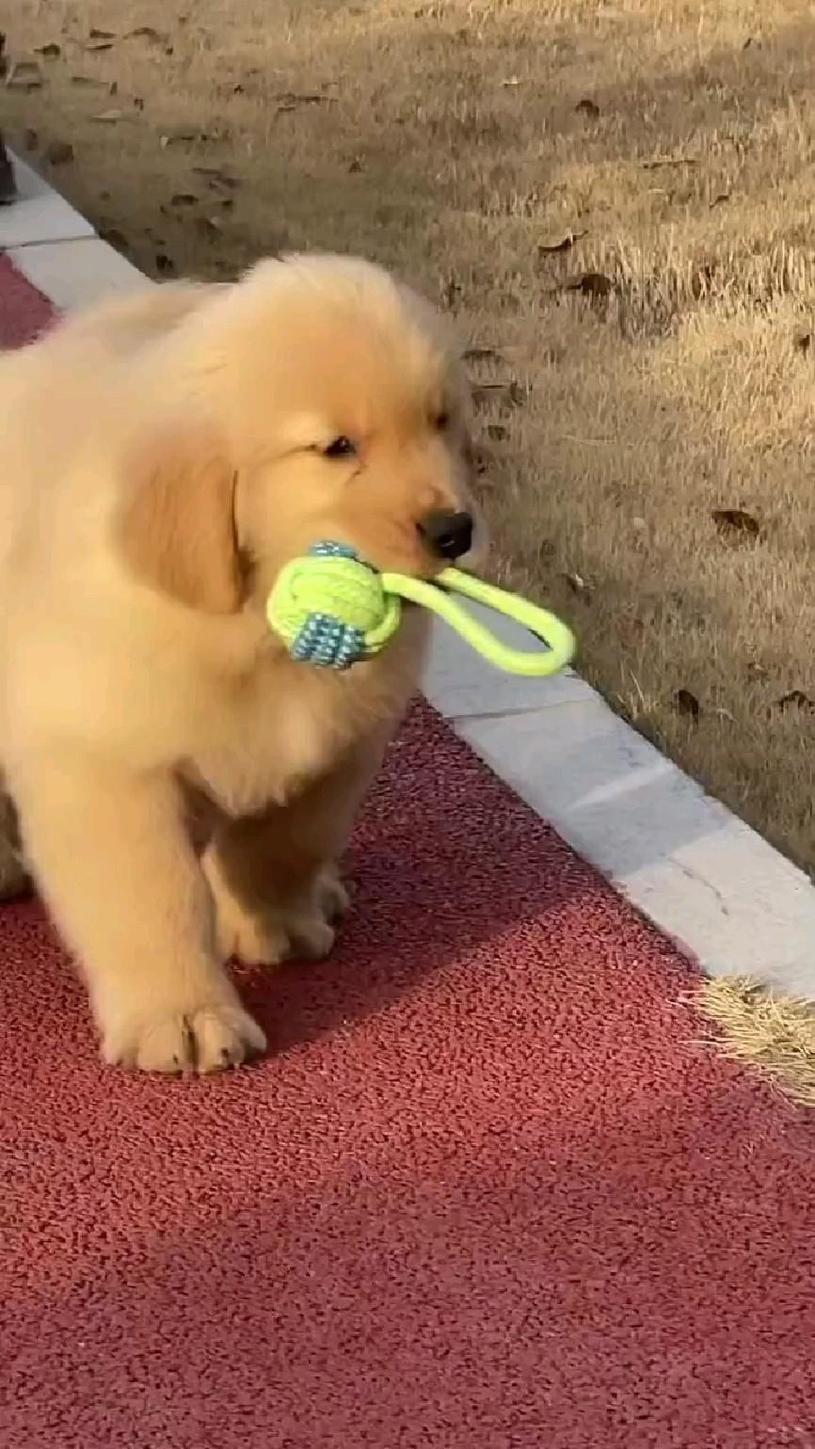puppy-dog: (1, 244, 480, 1080)
